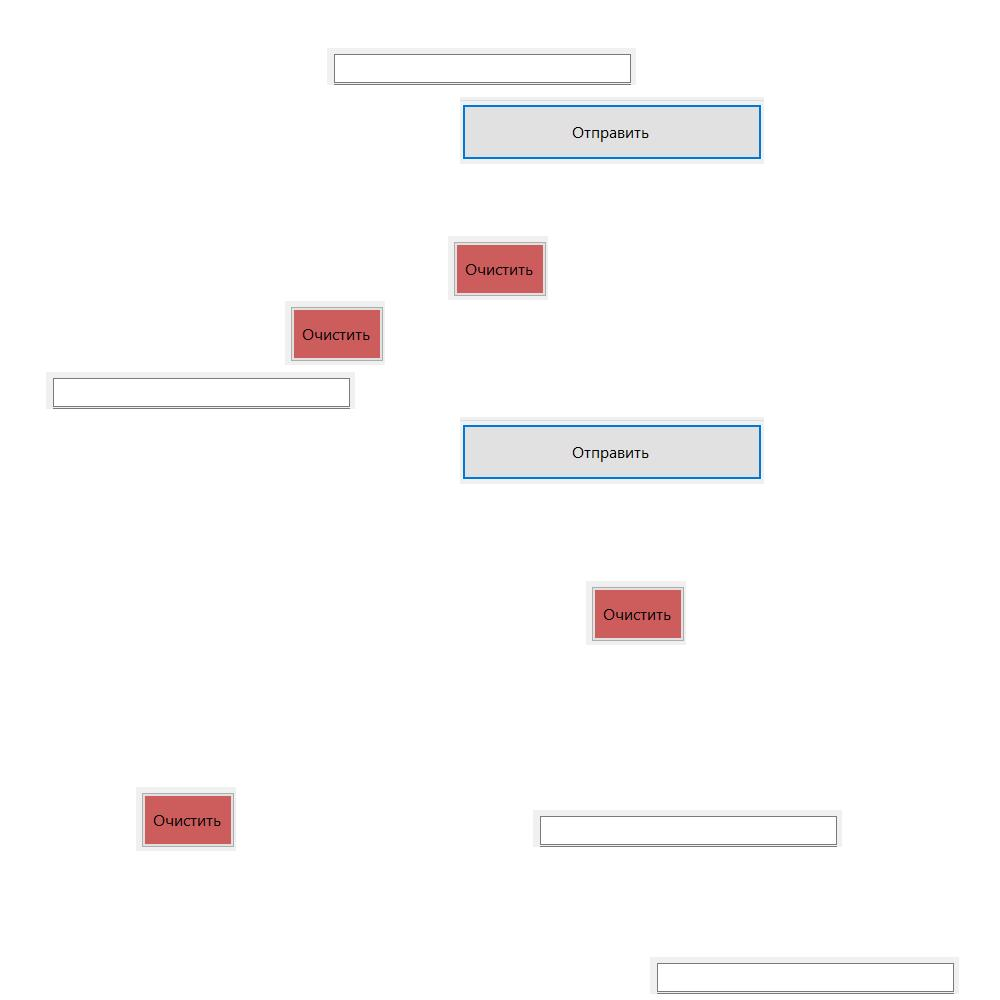Button: (460, 417, 764, 484), (460, 97, 764, 164), (448, 236, 548, 300), (285, 301, 385, 365), (586, 581, 686, 645), (136, 787, 236, 851)
EditText-: (650, 957, 959, 994), (327, 48, 636, 85), (533, 810, 842, 847), (46, 372, 355, 409)
